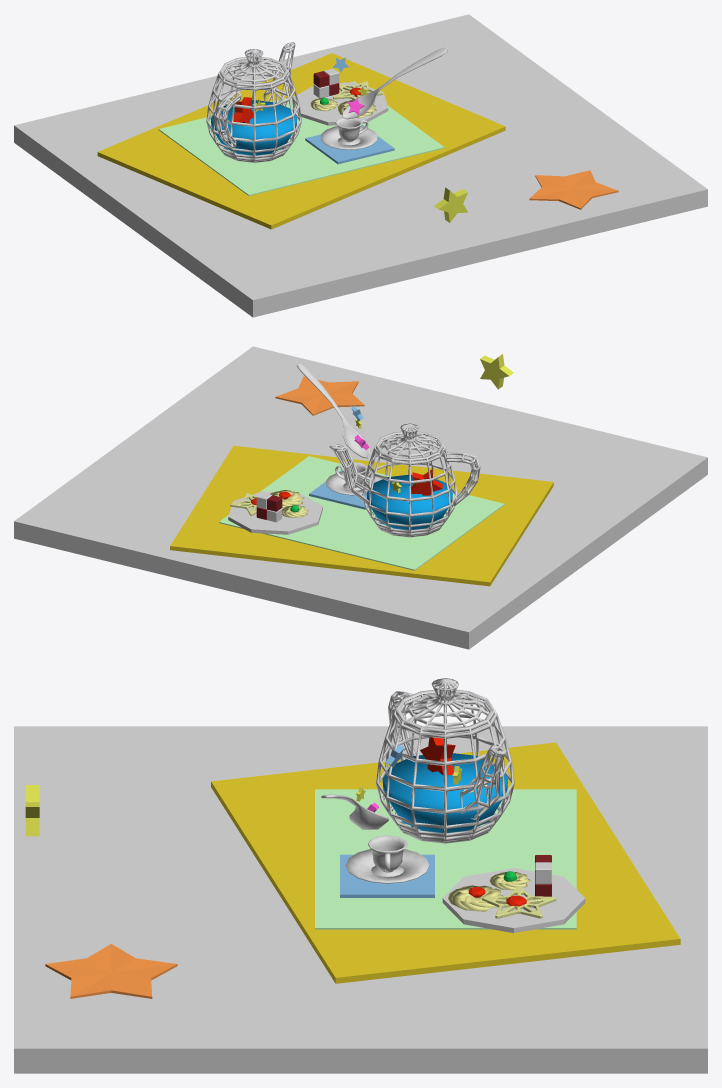
File: ティーポット1.1vr.glb
3 renders of one model, top to bottom at view 1: azimuth 30°, elevation 25°; view 2: azimuth 150°, elevation 25°; view 3: azimuth 270°, elevation 25°, orthographic. The views are drawn at different scales.
Parts seen in each view (by area): view 1: Star; view 2: Star; view 3: Star.
Part boxes in pixels (box(x1,y1,x2,y2)): Star: box(14, 14, 707, 317); Star: box(14, 346, 707, 649); Star: box(14, 678, 707, 1073).
Bounding box in the file's own units: 45.21 × 11.67 × 41.13.
